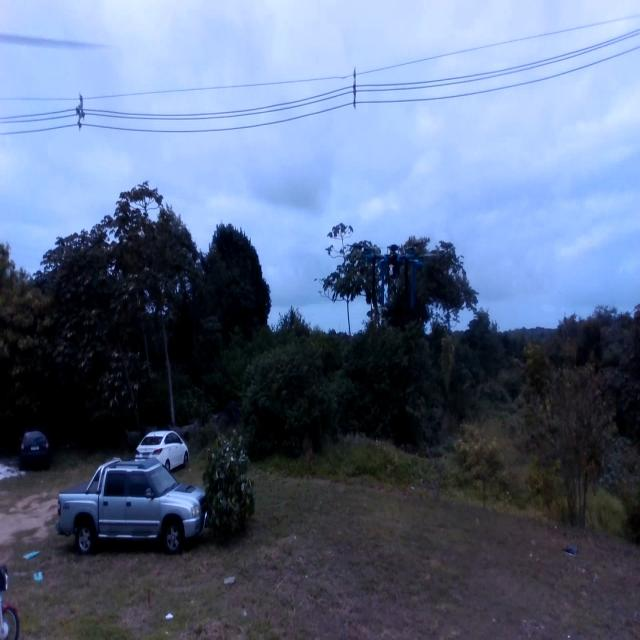-uav-: (348, 225, 442, 326)
